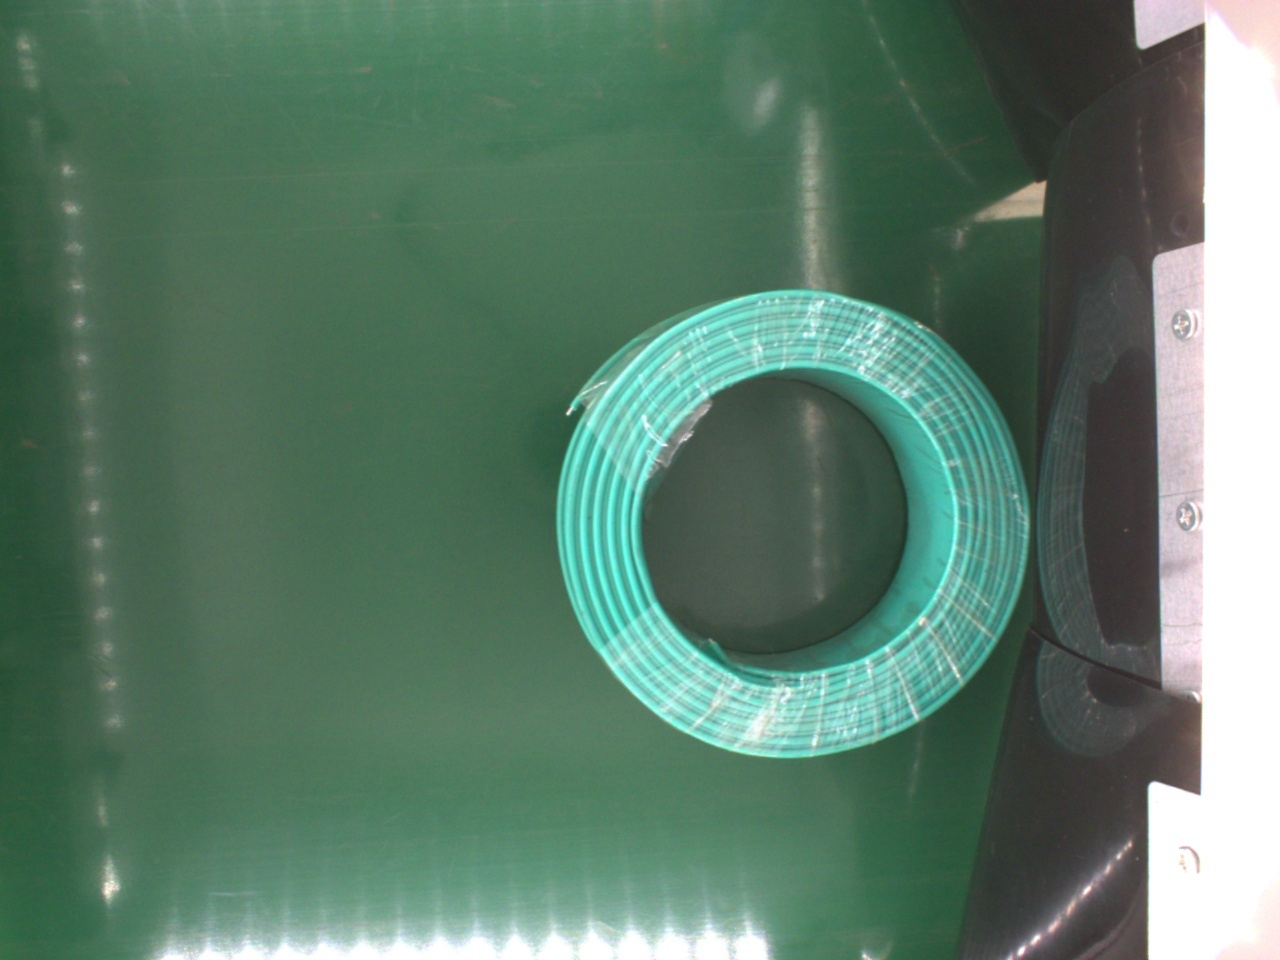green: (552, 291, 1030, 761)
